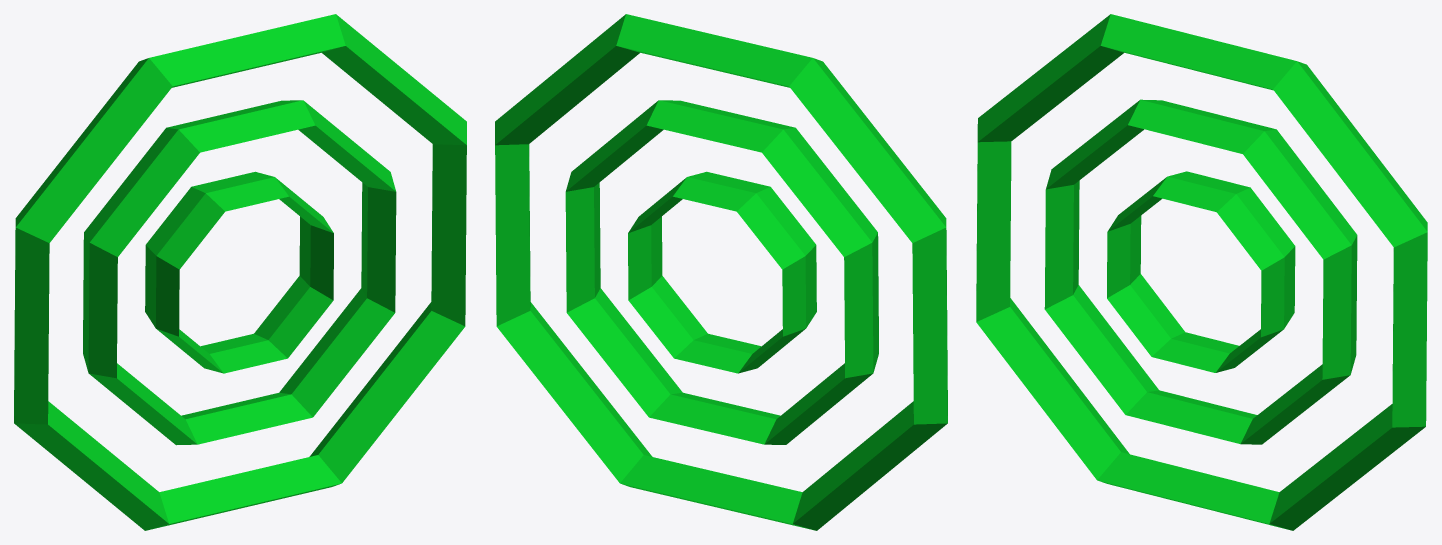
File: amper.fbx
3 renders of one model, left to right at view 1: azimuth 30°, elevation 25°; view 2: azimuth 150°, elevation 25°; view 3: azimuth 330°, elevation 25°, orthographic.
Parts seen in each view (by area): view 1: Cylinder, Cylinder.001, Cylinder.002; view 2: Cylinder, Cylinder.001, Cylinder.002; view 3: Cylinder, Cylinder.001, Cylinder.002.
Boxes of the visible parts, x1,y1,x2,y2 form: Cylinder: (14, 14, 466, 530); Cylinder.001: (83, 100, 396, 445); Cylinder.002: (145, 171, 333, 373); Cylinder: (495, 14, 947, 530); Cylinder.001: (565, 100, 878, 444); Cylinder.002: (628, 171, 816, 373); Cylinder: (976, 14, 1427, 530); Cylinder.001: (1044, 99, 1357, 444); Cylinder.002: (1107, 171, 1295, 372).
Bounding box in the file's own units: 108 × 108 × 14.01.
